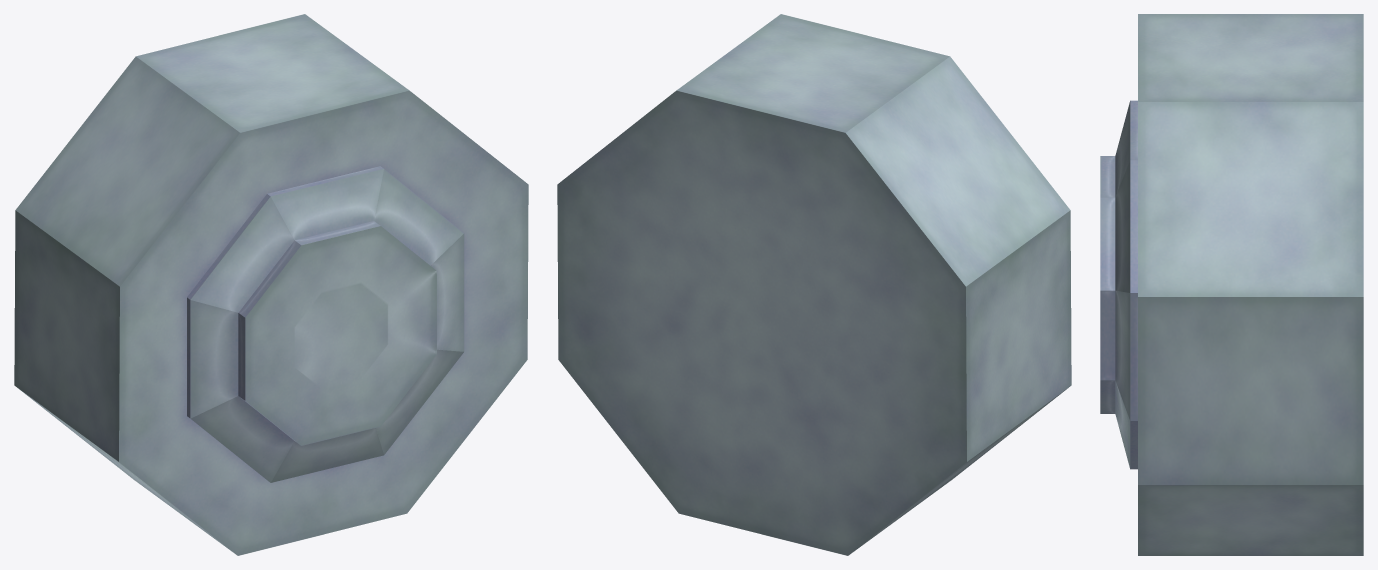
Rendered from module-stagger-01.glb.
3 views of the same model, side by side, from view 1: azimuth 30°, elevation 25°; view 2: azimuth 150°, elevation 25°; view 3: azimuth 270°, elevation 25° (orthographic). The views are drawn at different scales.
Parts seen in each view (by area): view 1: Mesh_0.002; view 2: Mesh_0.002; view 3: Mesh_0.002.
Boxes of the visible parts, x1,y1,x2,y2 form: Mesh_0.002: (14,14,528,555); Mesh_0.002: (557,14,1071,555); Mesh_0.002: (1100,14,1363,555).
Size of the model in its own units: 0.995 by 0.9831 by 0.5133.
1 material, 1 textured.
